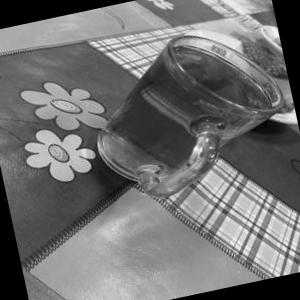tea: (65, 0, 299, 215)
